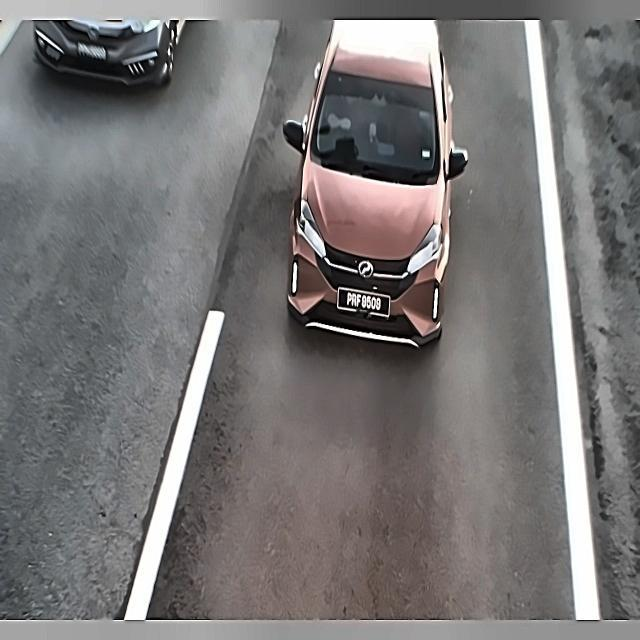car: (333, 279, 393, 321), (69, 39, 116, 66)
